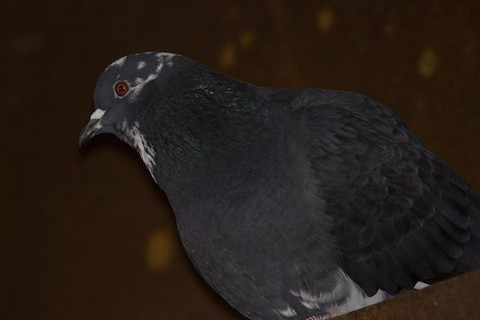pigeon: (70, 29, 466, 309)
